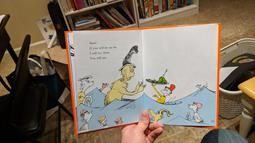text block: (84, 36, 118, 60)
